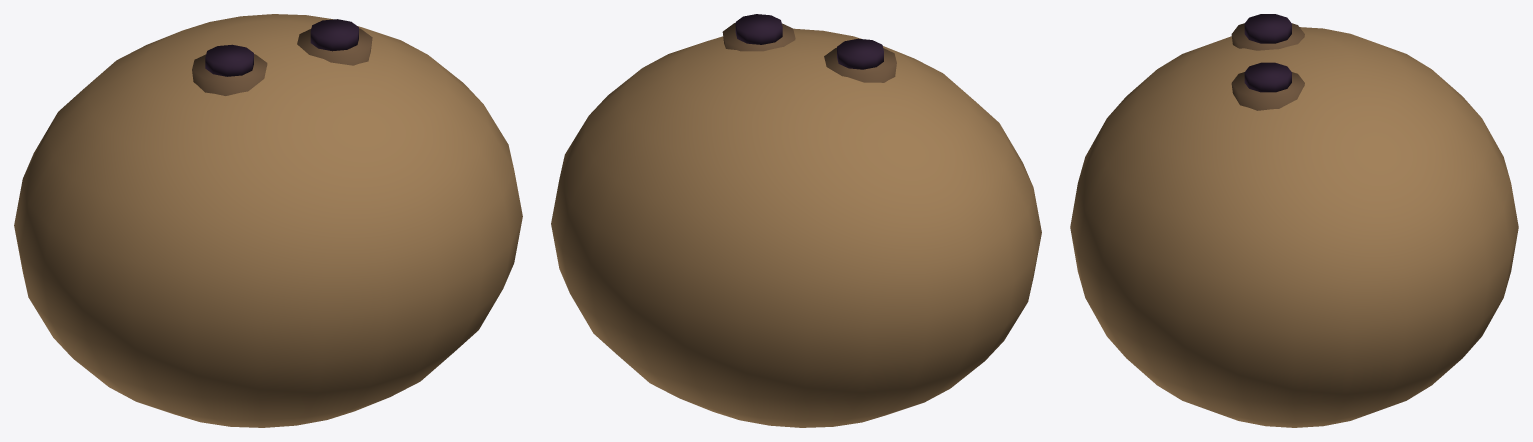
File: b_evolution_chamber.glb
3 renders of one model, left to right at view 1: azimuth 30°, elevation 25°; view 2: azimuth 150°, elevation 25°; view 3: azimuth 270°, elevation 25°, orthographic. The views are drawn at different scales.
Parts seen in each view (by area): view 1: ec_dome.001, ec_st0.001, ec_sm0.001, ec_sm1.001, ec_st1.001; view 2: ec_dome.001, ec_sm1.001, ec_sm0.001, ec_st0.001, ec_st1.001; view 3: ec_dome.001, ec_st1.001, ec_sm1.001, ec_sm0.001, ec_st0.001.
Boxes of the visible parts, x1,y1,x2,y2 form: ec_dome.001: (14,14,522,427); ec_st0.001: (192,54,267,95); ec_sm0.001: (205,44,253,76); ec_sm1.001: (310,19,358,51); ec_st1.001: (297,28,372,65); ec_dome.001: (551,28,1041,427); ec_sm1.001: (735,14,782,44); ec_sm0.001: (837,38,883,69); ec_st0.001: (824,47,896,82); ec_st1.001: (722,23,795,51); ec_dome.001: (1070,27,1518,427); ec_st1.001: (1231,72,1304,110); ec_sm1.001: (1244,62,1291,92); ec_sm0.001: (1244,14,1291,43); ec_st0.001: (1231,23,1304,50).
Size of the model in its own units: 1.89 by 1.48 by 1.71.
